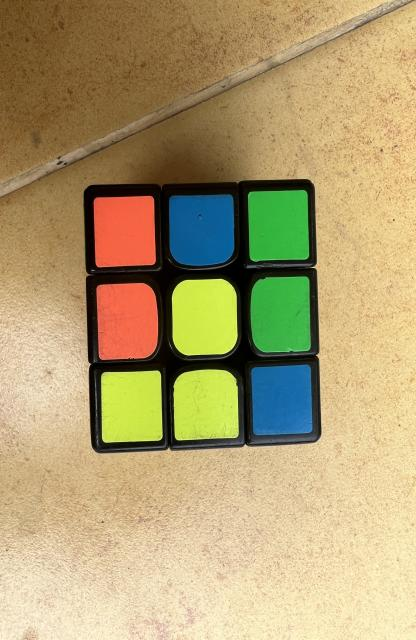Blue: (169, 195, 234, 265), (251, 365, 313, 435)
Green: (250, 276, 311, 352), (248, 190, 309, 261)
Orange: (96, 282, 158, 360), (93, 196, 156, 268)
Yellow: (172, 279, 237, 355), (173, 370, 238, 441), (101, 370, 162, 442)
